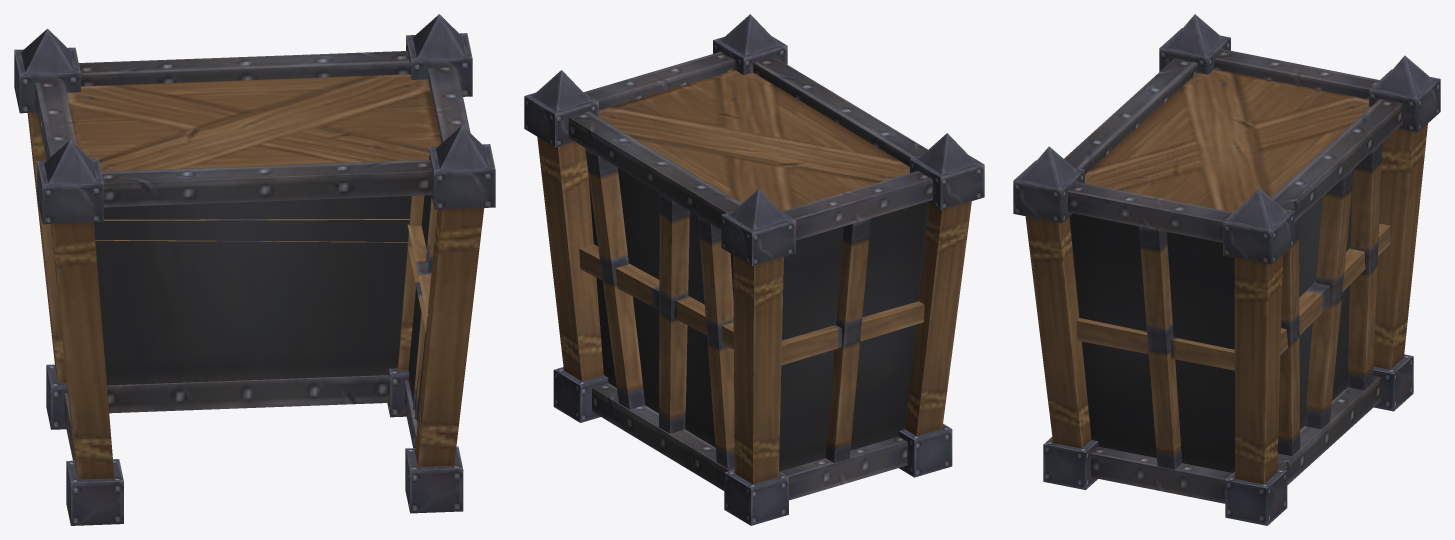
File: isolato.FBX
The picture shows the model from 3 angles, left to right: view 1: azimuth 30°, elevation 25°; view 2: azimuth 150°, elevation 25°; view 3: azimuth 270°, elevation 25°; orthographic projection. The views are drawn at different scales.
Visible parts, largest first — view 1: Object003; view 2: Object003; view 3: Object003.
Part boxes in pixels (box(x1,y1,x2,y2)): Object003: box(14, 14, 495, 525); Object003: box(524, 14, 984, 525); Object003: box(1013, 14, 1440, 525).
Bounding box in the file's own units: 70.63 × 54.39 × 62.58.
